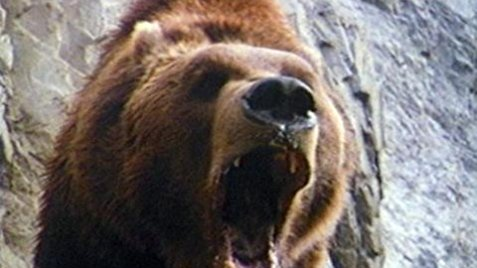bear: (128, 19, 355, 267)
